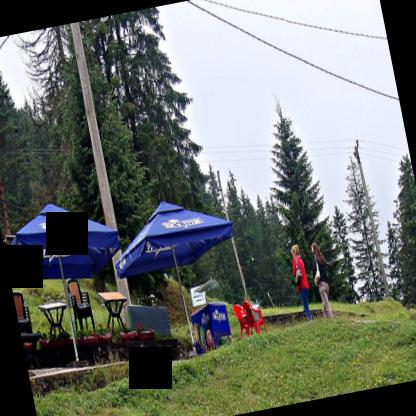handbag: (294, 256, 302, 288), (314, 255, 320, 285)
